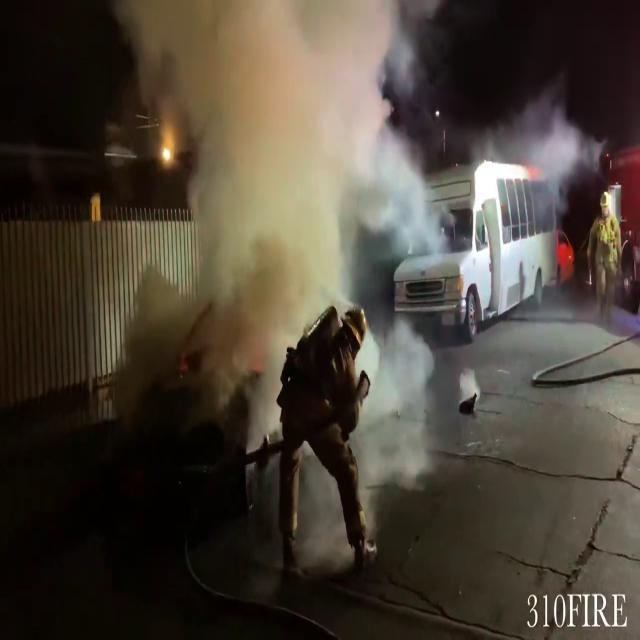Smoke: (87, 0, 447, 323)
